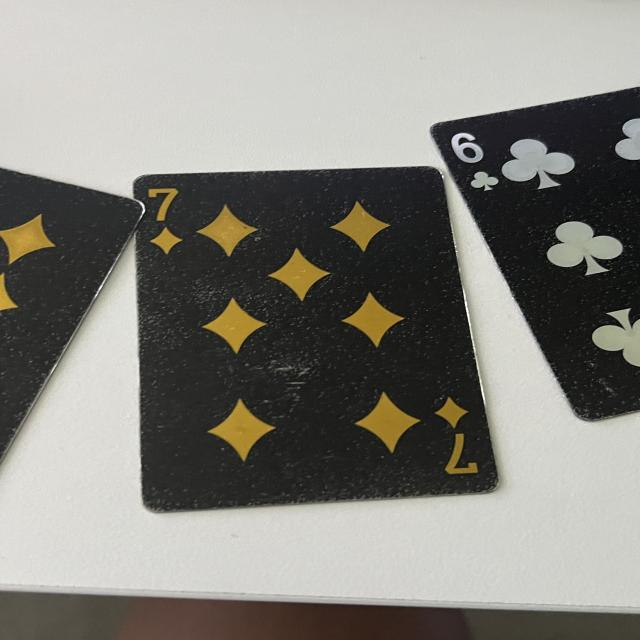6C: (441, 127, 511, 191)
7D: (426, 392, 484, 484), (138, 183, 194, 260)
